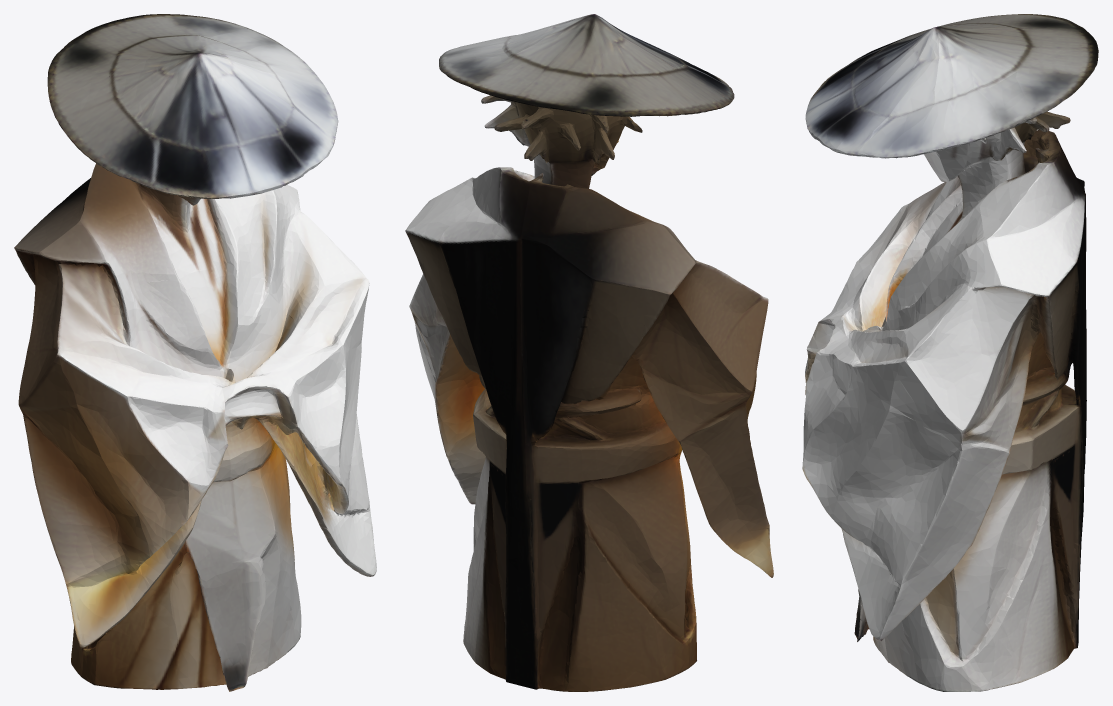
File: origami_samurai_s7.glb
The picture shows the model from 3 angles, left to right: view 1: azimuth 30°, elevation 25°; view 2: azimuth 150°, elevation 25°; view 3: azimuth 270°, elevation 25°; orthographic projection.
Visible parts, largest first — view 1: geometry_0; view 2: geometry_0; view 3: geometry_0.
Part boxes in pixels (box(x1,y1,x2,y2)): geometry_0: box(14, 14, 376, 691); geometry_0: box(405, 14, 773, 691); geometry_0: box(802, 14, 1098, 691).
Size of the model in its own units: 0.5786 by 1 by 0.4382.
1 material, 1 textured.
